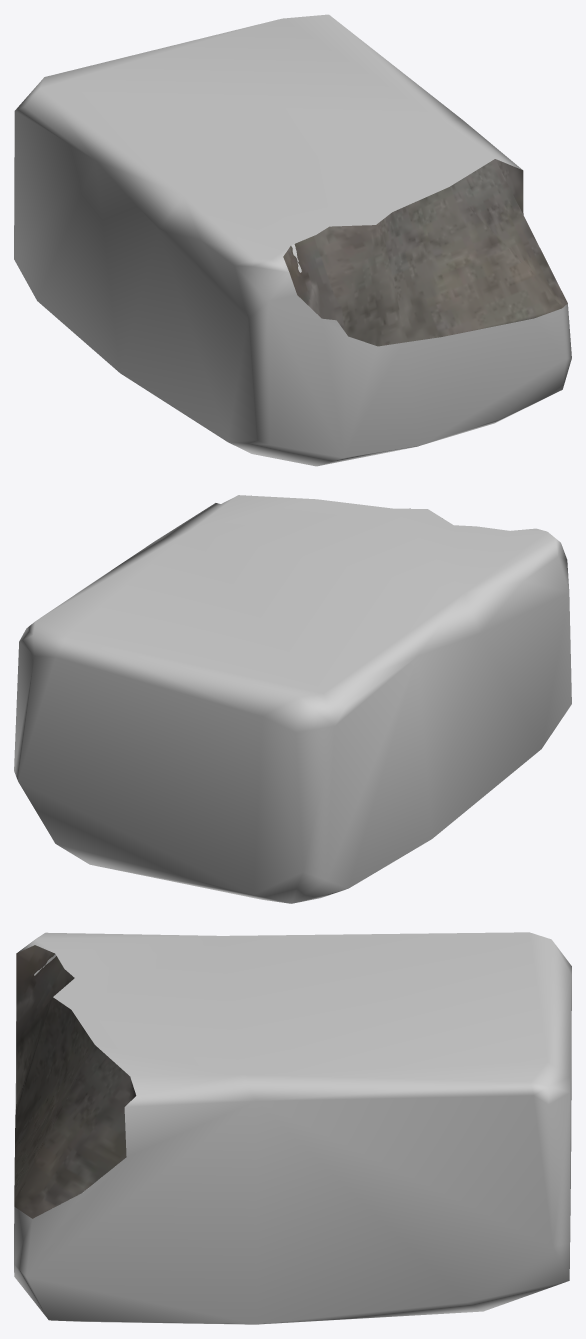
The picture shows the model from 3 angles, top to bottom: view 1: azimuth 30°, elevation 25°; view 2: azimuth 150°, elevation 25°; view 3: azimuth 270°, elevation 25°; orthographic projection. The views are drawn at different scales.
Parts seen in each view (by area): view 1: SM_Castle_Floor_Stone_01_Dmg_v1_LOD0; view 2: SM_Castle_Floor_Stone_01_Dmg_v1_LOD0; view 3: SM_Castle_Floor_Stone_01_Dmg_v1_LOD0.
Boxes of the visible parts, x1,y1,x2,y2 form: SM_Castle_Floor_Stone_01_Dmg_v1_LOD0: (14,14,571,466); SM_Castle_Floor_Stone_01_Dmg_v1_LOD0: (14,495,571,903); SM_Castle_Floor_Stone_01_Dmg_v1_LOD0: (14,932,571,1324).
Size of the model in its own units: 0.5329 by 0.3581 by 0.7369.
